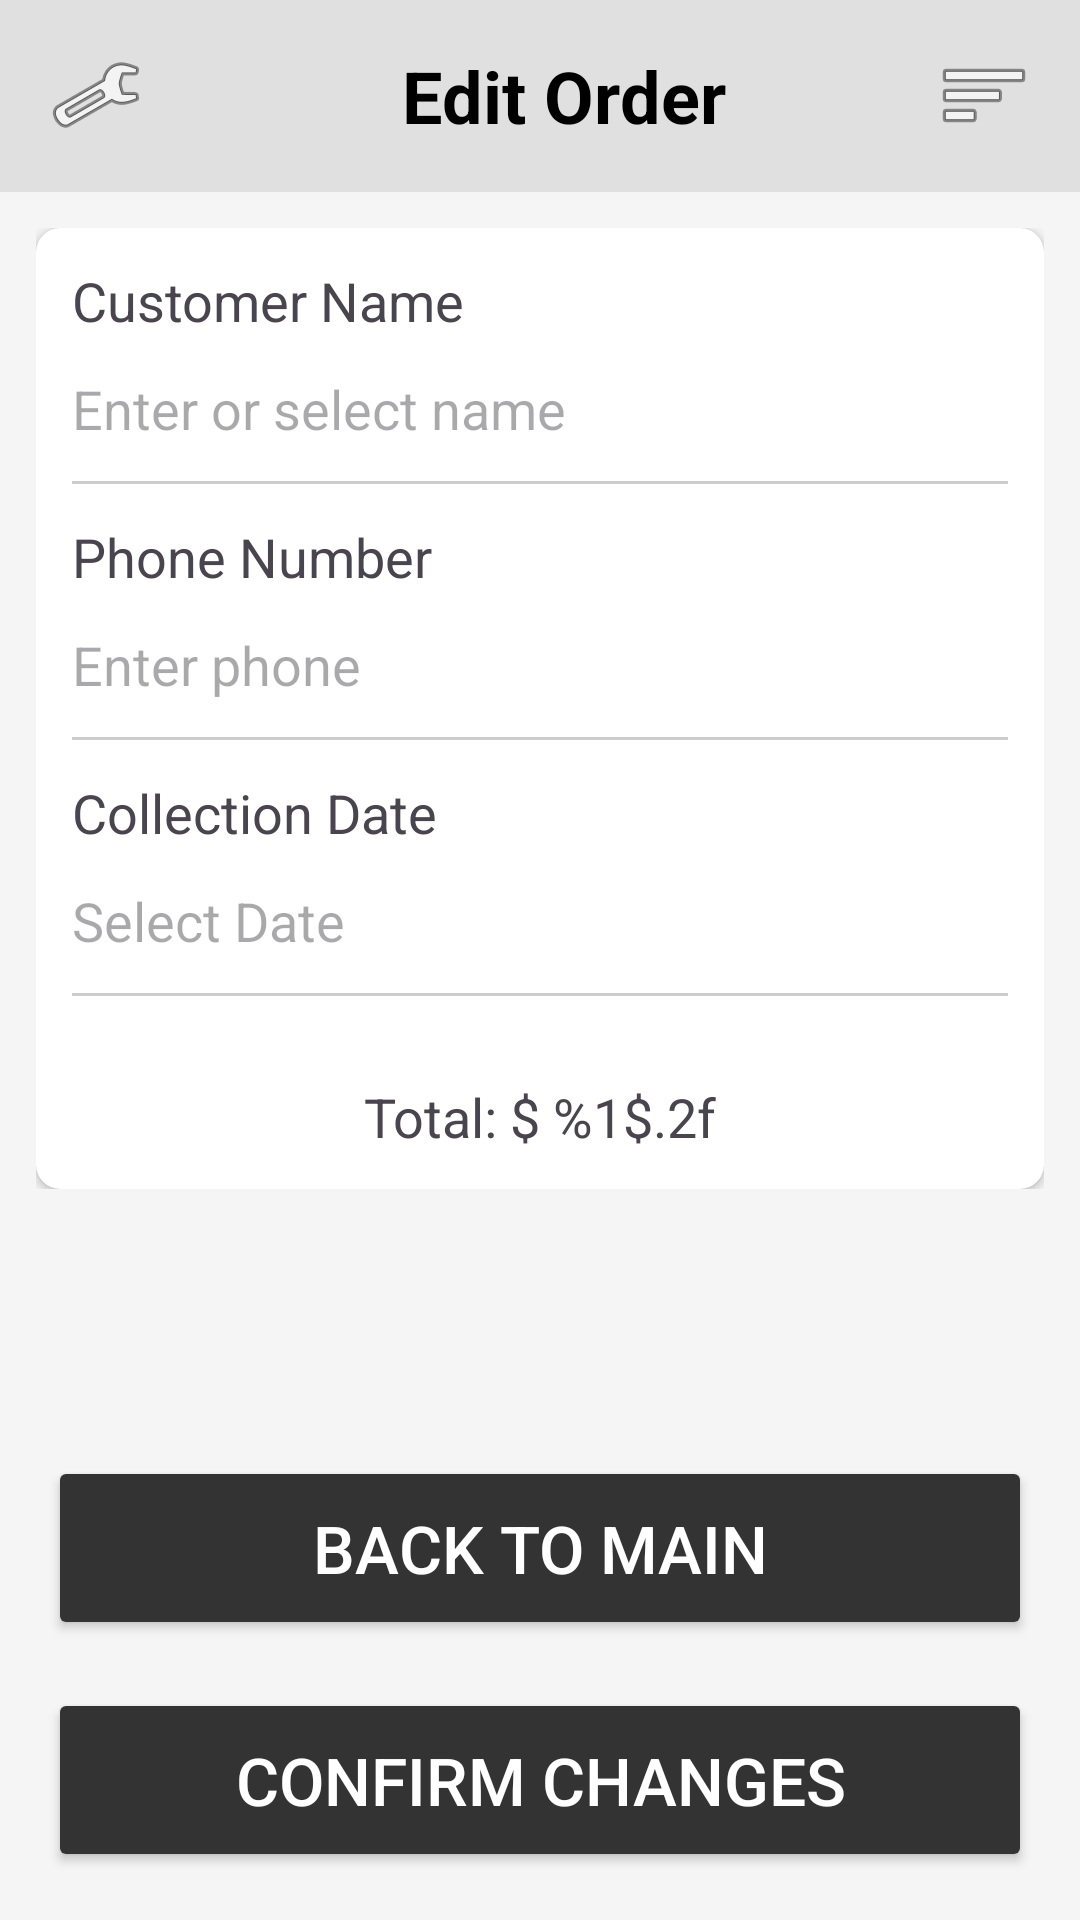

Icon bounding boxes for this 1080w x 1920h phone screenshot, format box=[x1, y1, x2, y2]:
preferences: box=[53, 62, 139, 128]
sort by size: box=[943, 69, 1025, 122]
